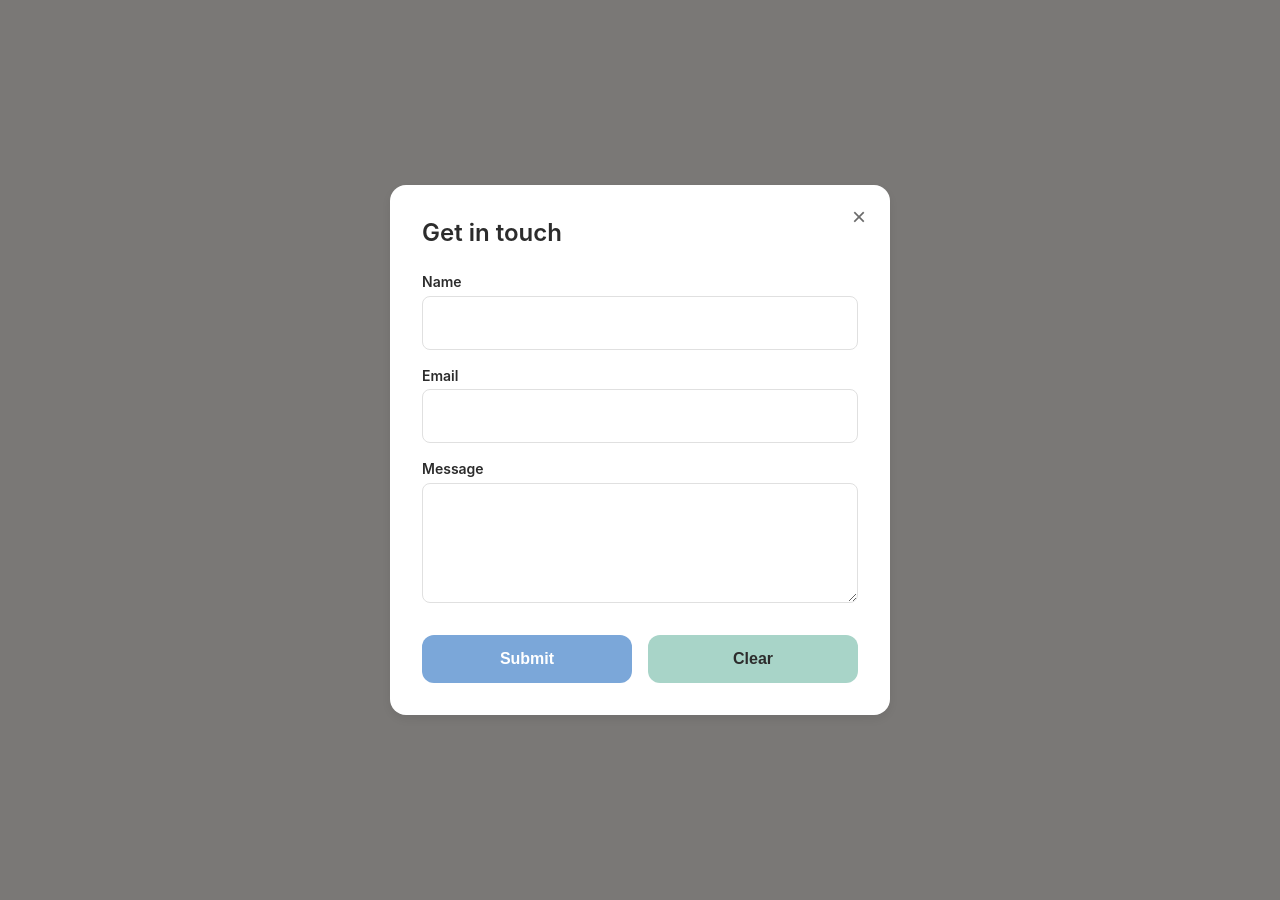
Scenario: ContactModal › shows email format error for invalid email
Type "Test" into the field labelled "Name" at (640, 323), box [422,296,858,350]
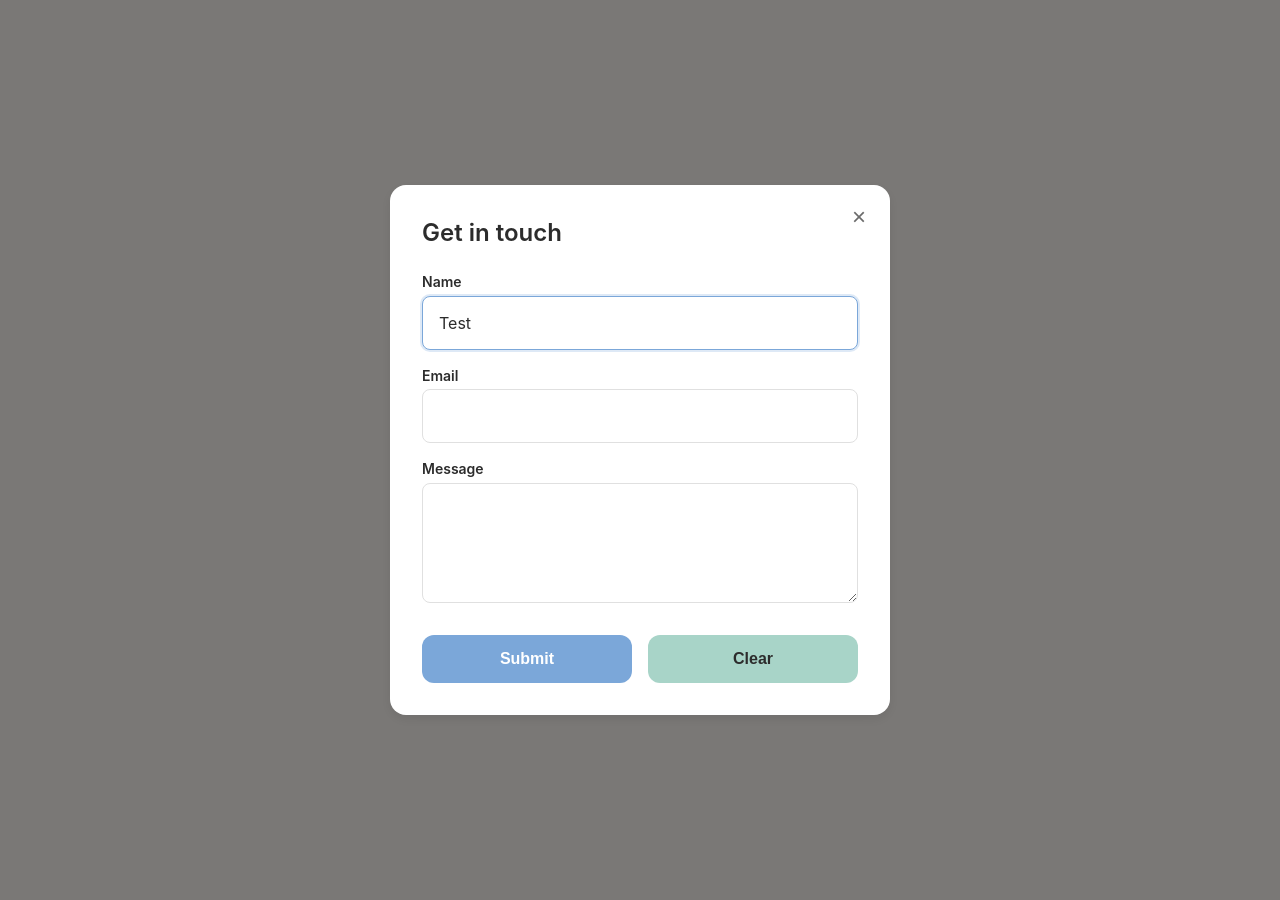
Type "bad-email" into the field labelled "Email" at (640, 416), box [422,389,858,443]
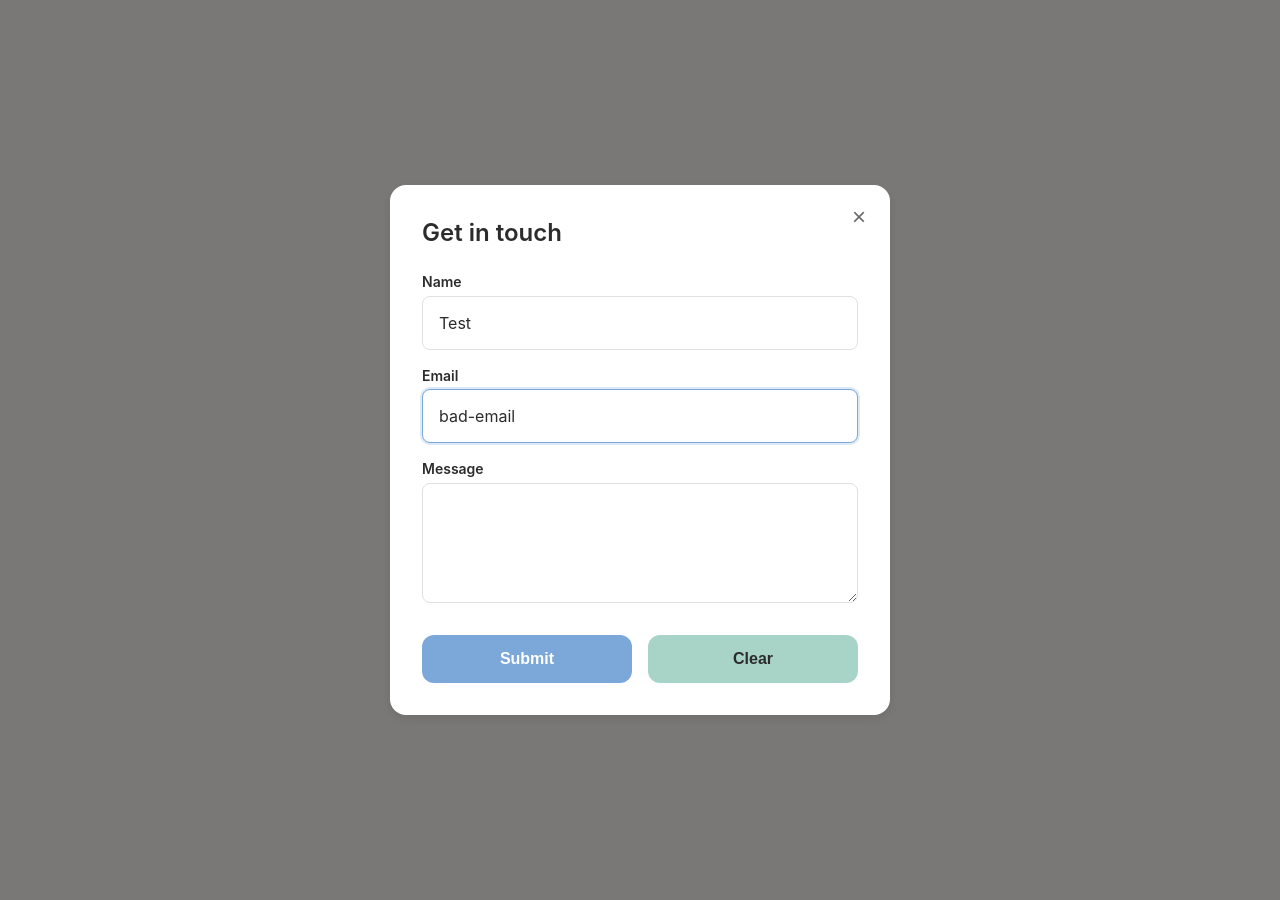
Type "Hello" into the text box labelled "Message" at (640, 543), box [422,483,858,603]
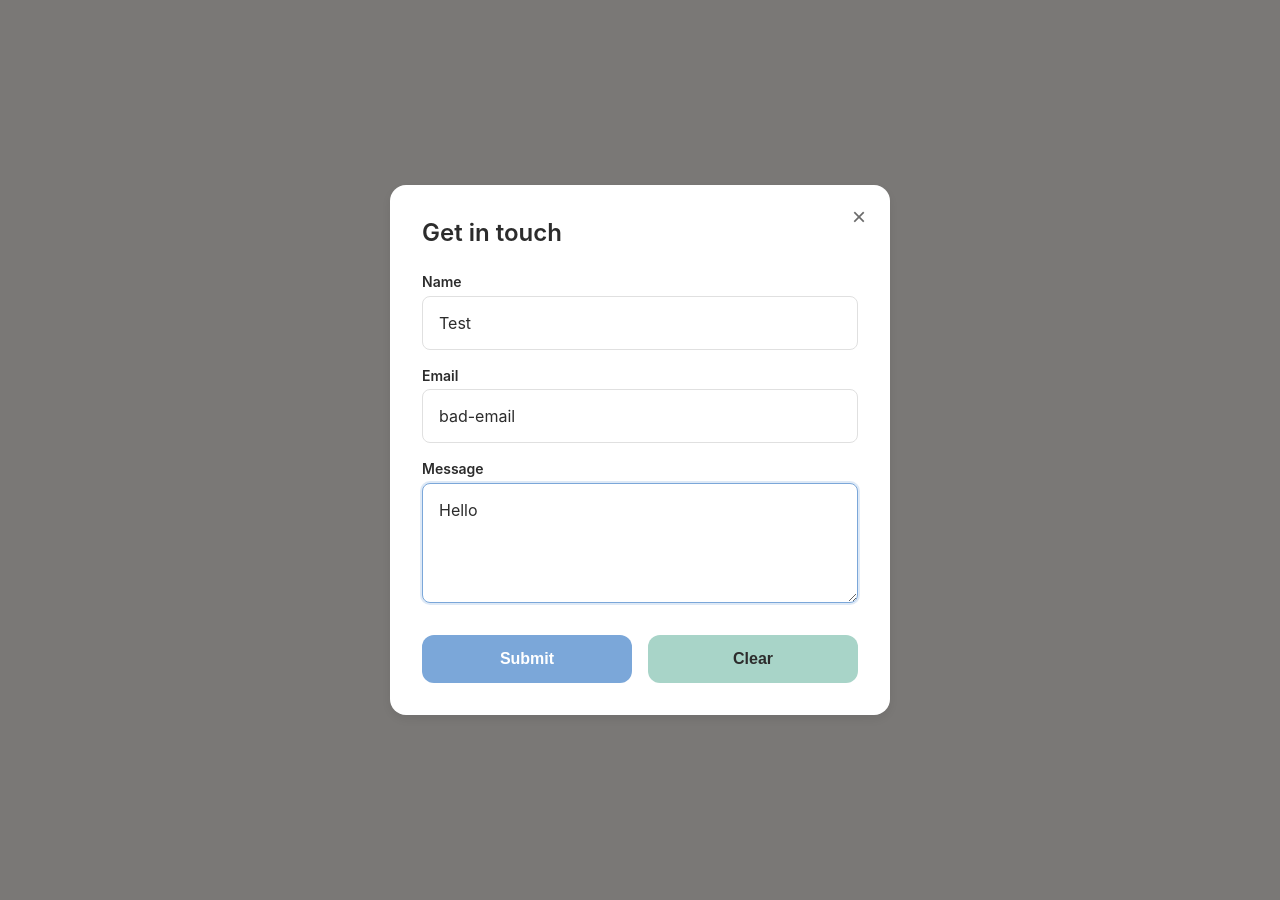
Click the button "Submit" at (527, 659), box [422,635,632,683]
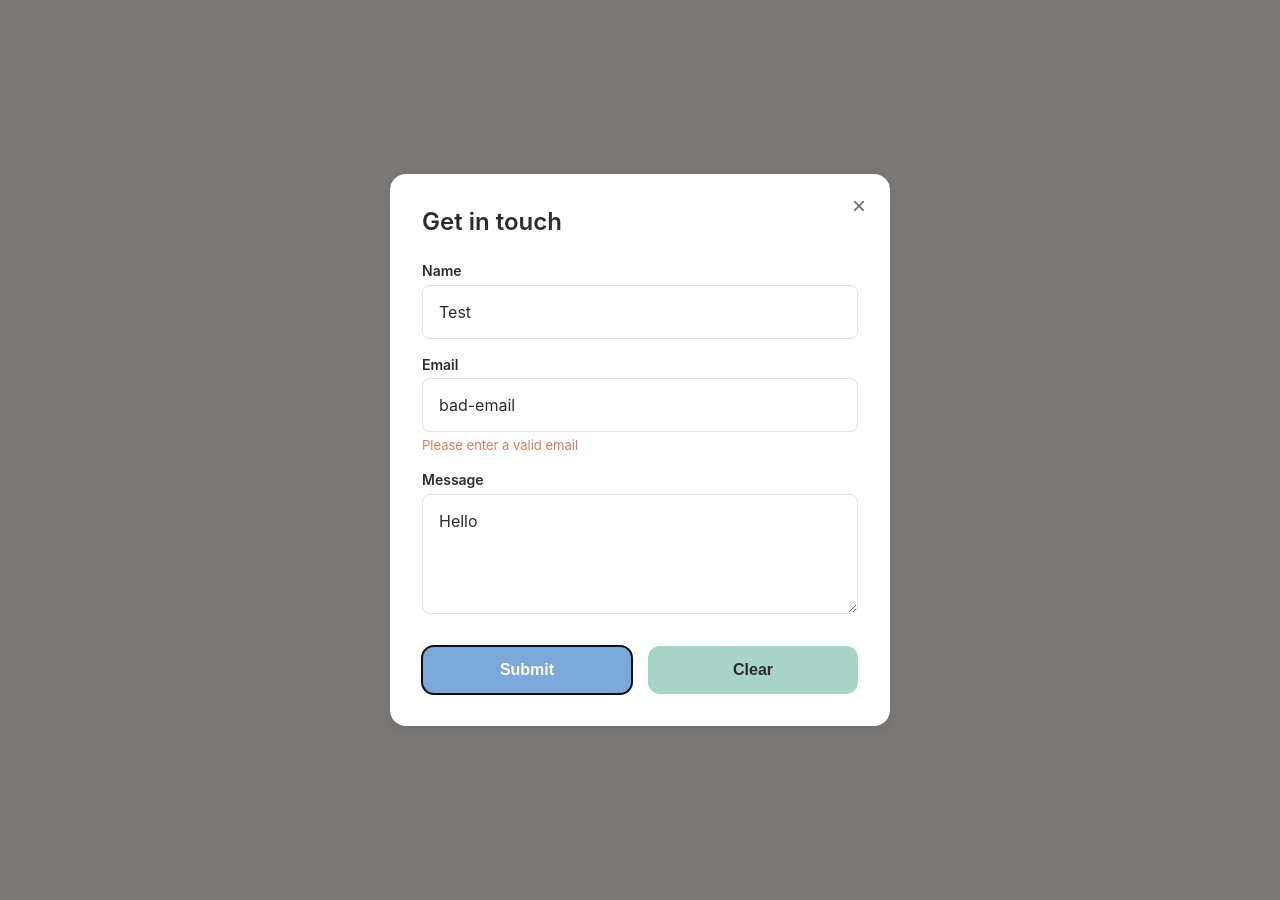
Result: the text "Please enter a valid email" is shown at [422,437,578,453]
